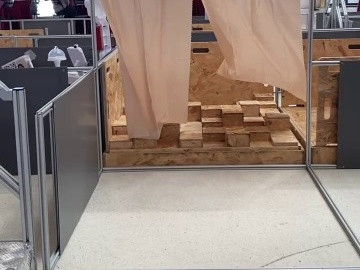curtain: (104, 0, 302, 143)
